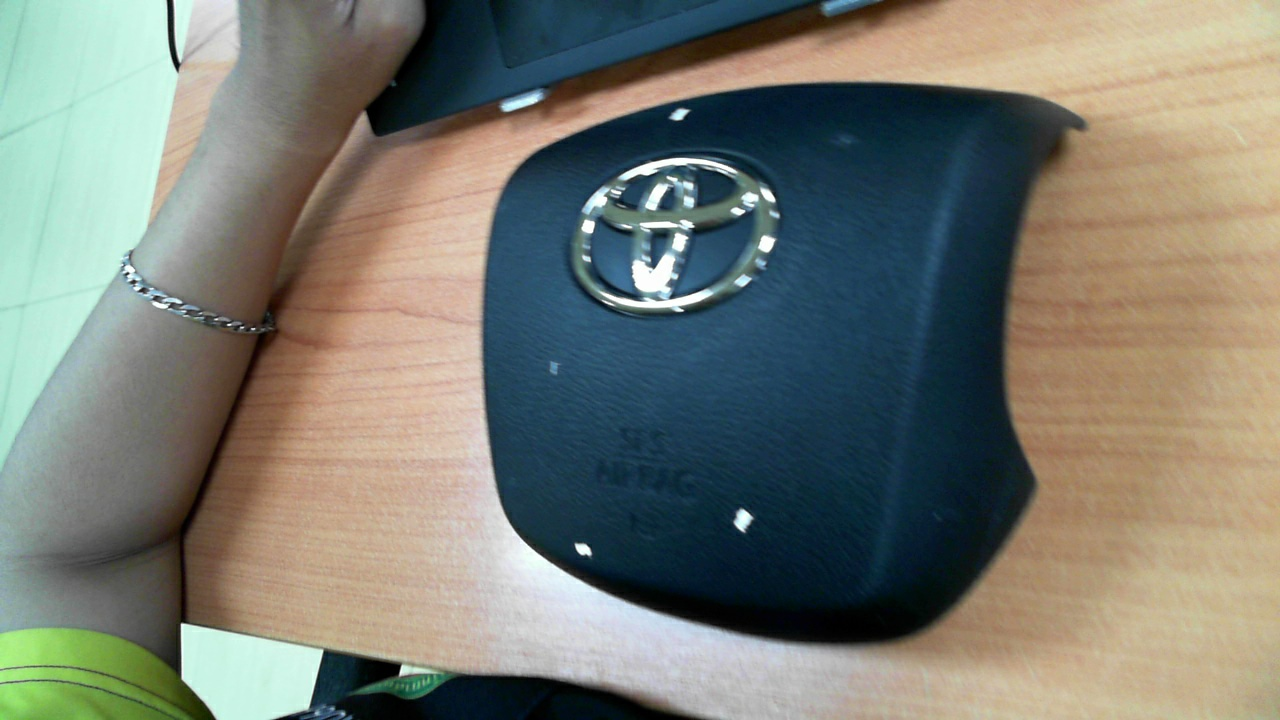Airbag: (485, 81, 1084, 642)
Mark: (733, 507, 753, 533), (668, 108, 690, 121), (574, 542, 593, 557), (835, 134, 855, 145), (550, 360, 559, 377)
